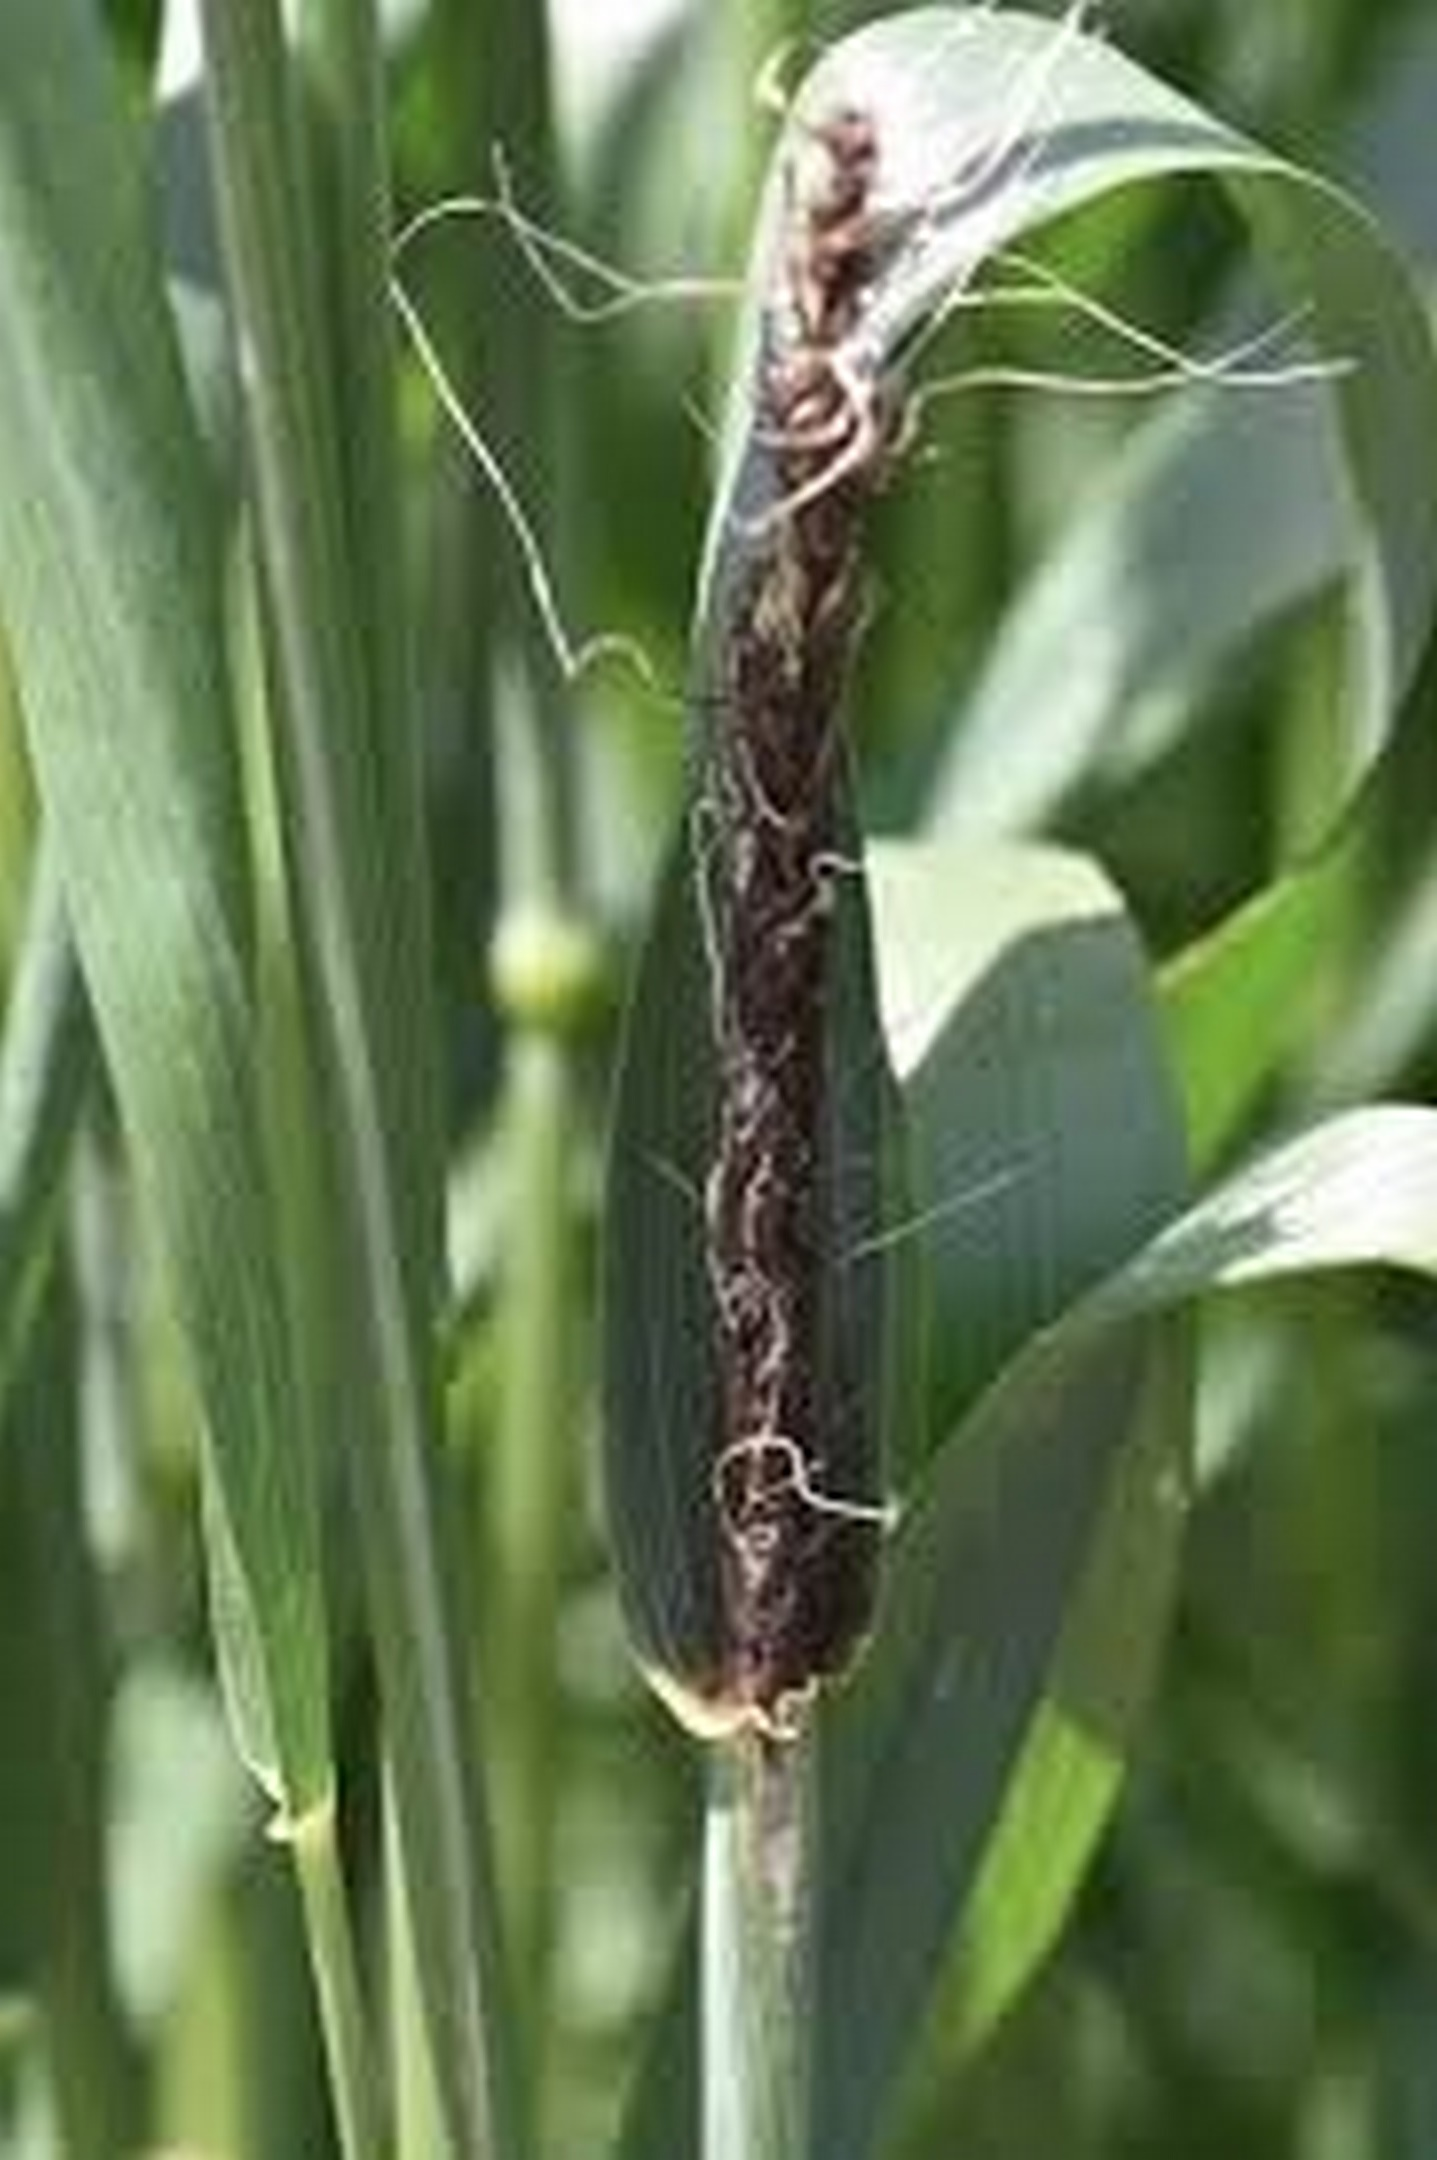Wheat Loose Smut: (614, 135, 961, 1701)
